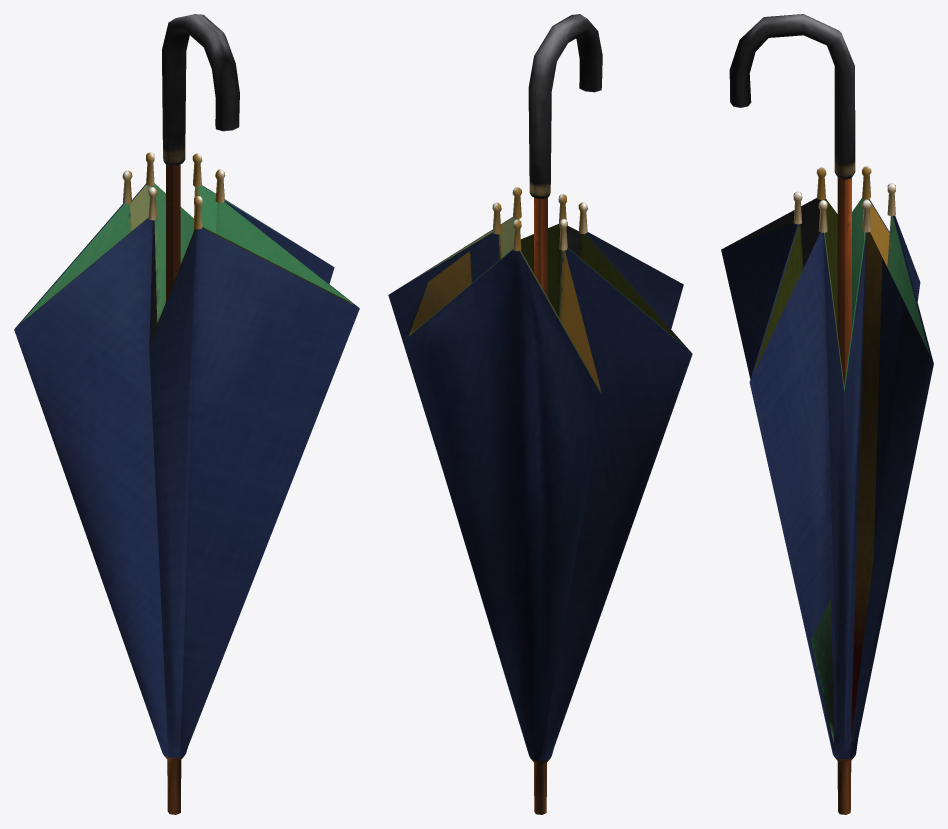
Rendered from ZhiBanShi_01_yusan_01.FBX.
The picture shows the model from 3 angles, left to right: view 1: azimuth 30°, elevation 25°; view 2: azimuth 150°, elevation 25°; view 3: azimuth 270°, elevation 25°; orthographic projection. The views are drawn at different scales.
Parts seen in each view (by area): view 1: ZhiBanShi_shan_01; view 2: ZhiBanShi_shan_01; view 3: ZhiBanShi_shan_01.
Part boxes in pixels (box(x1,y1,x2,y2)): ZhiBanShi_shan_01: box(14, 14, 359, 814); ZhiBanShi_shan_01: box(388, 14, 692, 814); ZhiBanShi_shan_01: box(721, 14, 933, 814).
Bounding box in the file's own units: 126 × 306 × 73.85.
